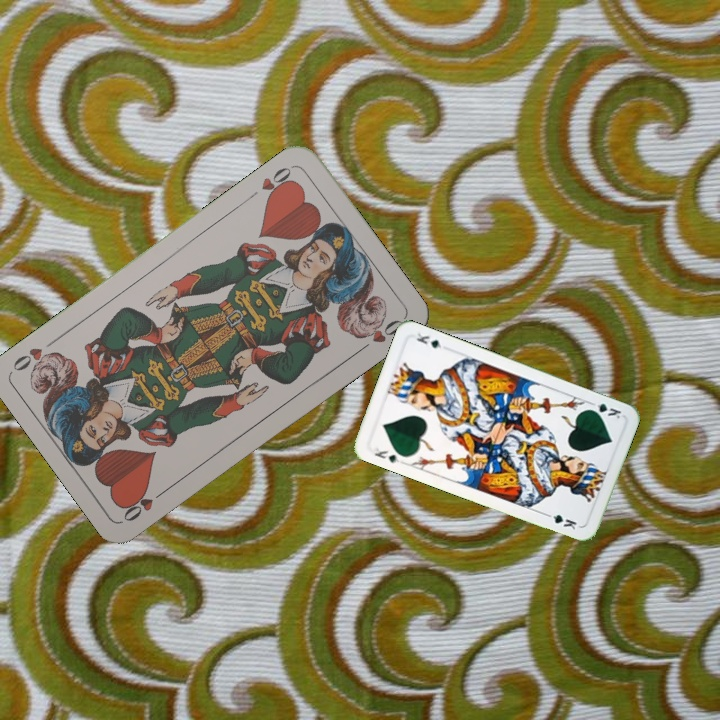GK: (584, 398, 624, 422), (369, 443, 406, 466)
HO: (244, 162, 296, 203), (119, 484, 171, 525)
